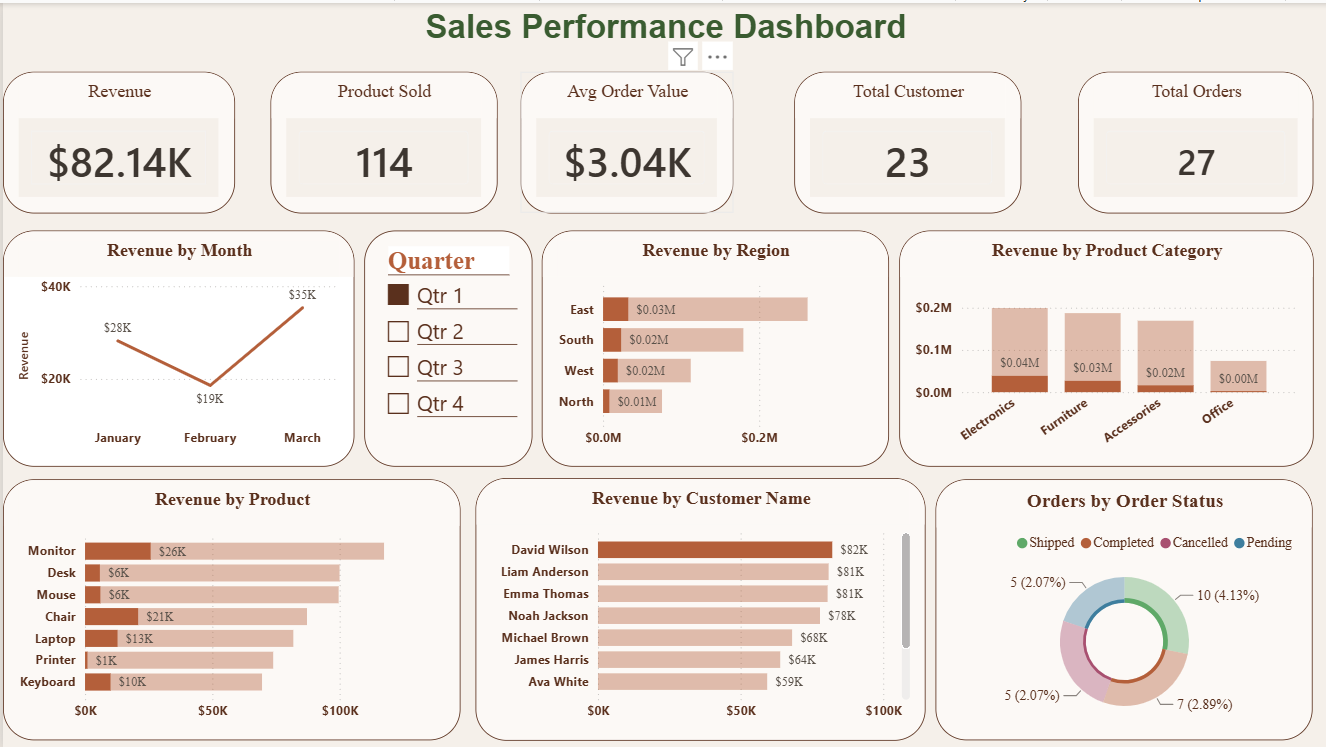

The dashboard page shown, as its layout file describes it:
{"tool":"powerbi","page":{"name":"Sales Analysis","canvas":[1280,720],"ordinal":0},"visuals":[{"type":"cardVisual","title":"Total Customer","fields":{"Data":["Sales.Total Customers"]},"box":[764.3,66,218.9,137],"z":0},{"type":"cardVisual","title":"Revenue","fields":{"Data":["Sales.Total Revenue"]},"box":[0,66,223.8,137],"z":1000},{"type":"cardVisual","title":"Product Sold","fields":{"Data":["Sales.Quantity Sold"]},"box":[258,66,218.9,137],"z":2000},{"type":"cardVisual","title":"Total Orders","fields":{"Data":["Sales.Total Orders"]},"box":[1037,66,227.4,137],"z":3000},{"type":"cardVisual","title":"Avg Order Value","fields":{"Data":["Sales.Average Order Value"]},"box":[498.9,66,205.4,137],"z":4000},{"type":"lineChart","title":"Revenue by Month","fields":{"Y":["Sales.Total Revenue"],"Category":["Date.Date.Variation.Date Hierarchy.Month"]},"box":[0,219.5,339.6,228.4],"z":5000},{"type":"clusteredBarChart","title":"Revenue by Region","fields":{"Category":["Sales.Region"],"Y":["Sales.Total Revenue"]},"box":[520.5,219.5,335.1,228.4],"z":6000},{"type":"clusteredColumnChart","title":"Revenue by Product Category","fields":{"Category":["Sales.Product Category"],"Y":["Sales.Total Revenue"]},"box":[865.2,219.7,399.7,228.4],"z":7000},{"type":"barChart","title":"Revenue by Product","fields":{"Category":["Sales.Product"],"Y":["Sales.Total Revenue"]},"box":[0,459.7,441.6,252.1],"z":8000},{"type":"barChart","title":"Revenue by Customer Name","fields":{"Y":["Sales.Total Revenue"],"Category":["Sales.Customer Name"]},"box":[456,458.4,434.3,253.4],"z":9000},{"type":"donutChart","title":"Orders by Order Status","fields":{"Category":["Sales.Order Status"],"Y":["Sales.Total Orders"]},"box":[900,459.7,364.3,252.1],"z":10000},{"type":"slicer","fields":{"Values":["Date.Date.Variation.Date Hierarchy.Quarter"]},"box":[348.8,219.7,162.6,228.4],"z":11000},{"type":"textbox","box":[248.2,0,782.6,53.8],"z":12000}]}

Visuals, with their boxes in screenshot pixels (x1, y1, x2, y2), scaled from the page's 1280x720 canvas onto the 1326x747 screenshot:
"Total Customer" cardVisual: 792, 68, 1019, 211
"Revenue" cardVisual: 0, 68, 232, 211
"Product Sold" cardVisual: 267, 68, 494, 211
"Total Orders" cardVisual: 1074, 68, 1310, 211
"Avg Order Value" cardVisual: 517, 68, 730, 211
"Revenue by Month" lineChart: 0, 228, 352, 465
"Revenue by Region" clusteredBarChart: 539, 228, 886, 465
"Revenue by Product Category" clusteredColumnChart: 896, 228, 1310, 465
"Revenue by Product" barChart: 0, 477, 457, 738
"Revenue by Customer Name" barChart: 472, 476, 922, 738
"Orders by Order Status" donutChart: 932, 477, 1310, 738
slicer - Date.Date.Variation.Date Hierarchy.Quarter: 361, 228, 530, 465
textbox: 257, 0, 1068, 56
